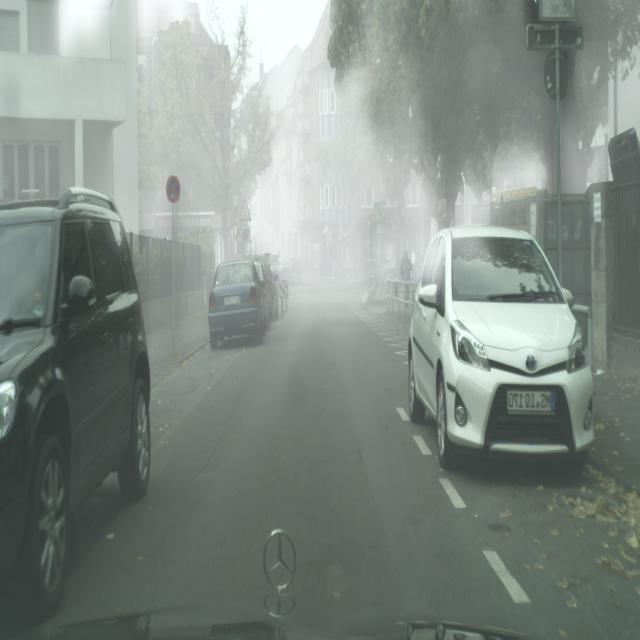bus: (1, 186, 152, 622), (407, 224, 595, 471), (208, 258, 270, 350), (258, 254, 281, 322), (284, 258, 303, 282)
